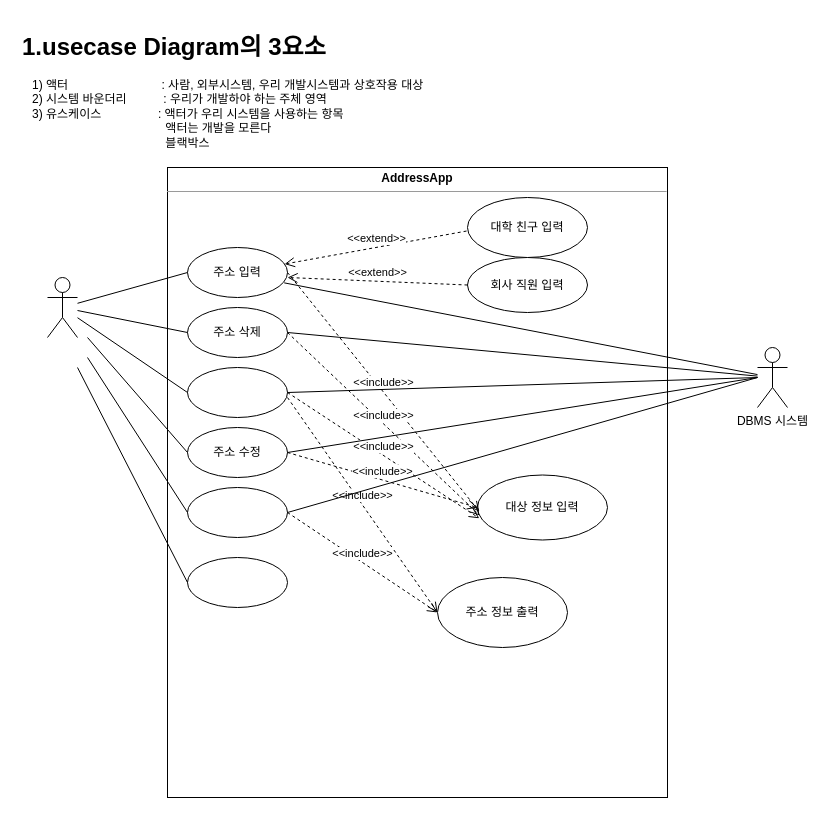
The diagram is 825 pixels wide and 815 high, and some of its shapes have lost their labels. The box of each missing label's shape, as (x1, y1, x2, y2) in pixels:
사용자: (46, 276, 78, 338)
종료: (186, 556, 288, 608)
주소 검색: (186, 366, 288, 418)
주소 전체 검색: (186, 486, 288, 538)
